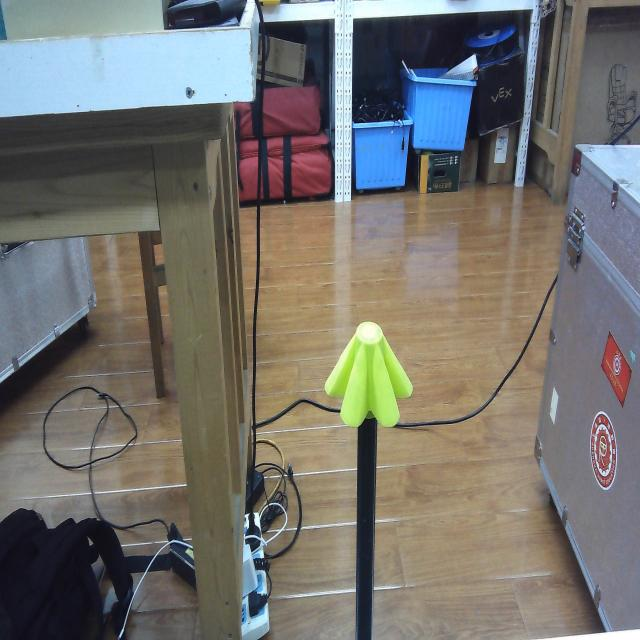Yellow-Stake-Head: (324, 321, 413, 428)
